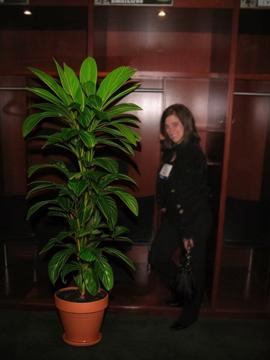person: (148, 103, 211, 333)
pottedplant: (20, 56, 141, 346)
